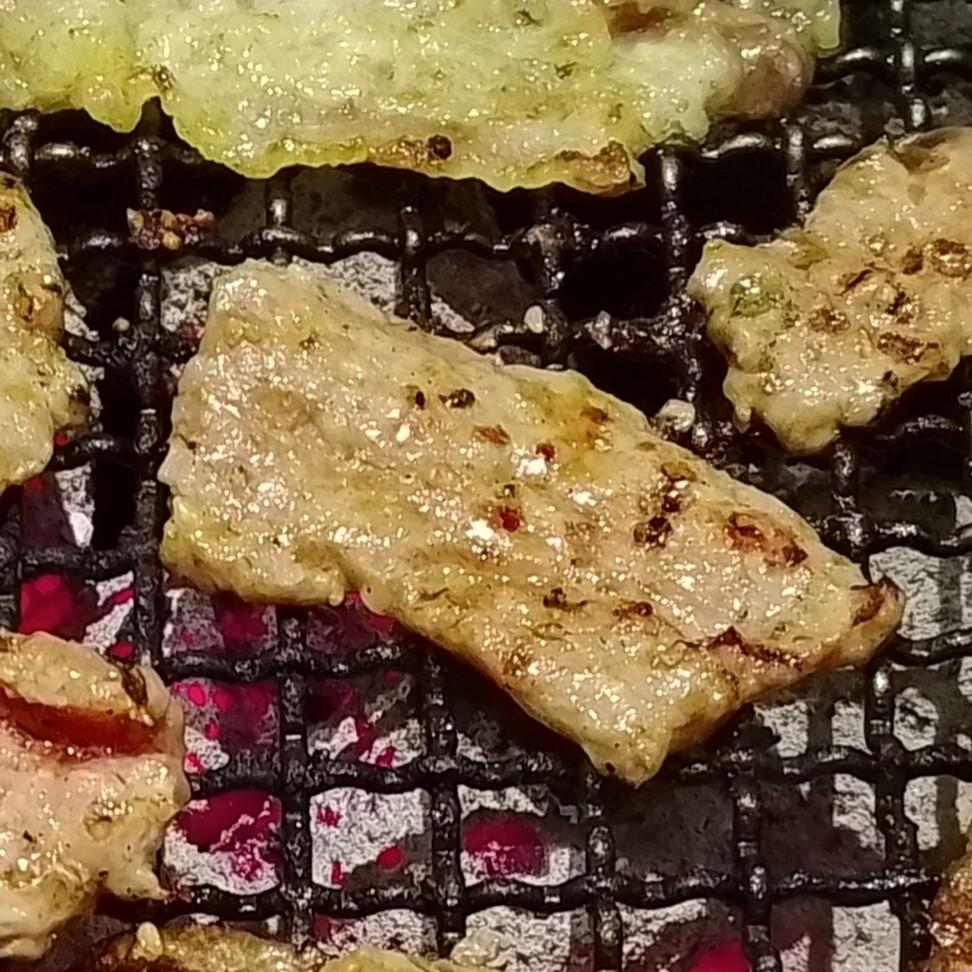Well-Cooked: (160, 264, 906, 790), (24, 0, 840, 198), (688, 129, 971, 455), (0, 632, 192, 971), (0, 166, 88, 499)
